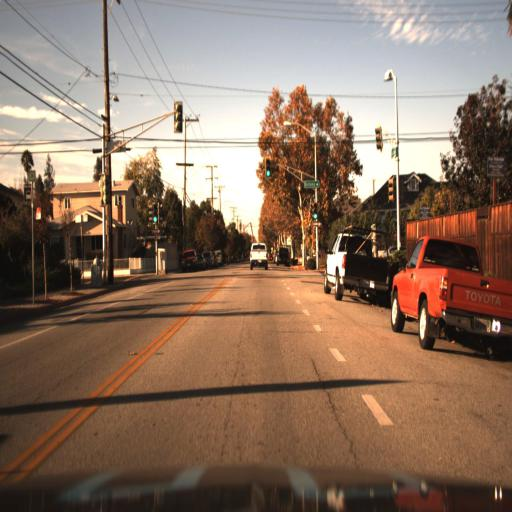car: (390, 236, 512, 353), (315, 221, 390, 308), (247, 230, 271, 276), (179, 249, 199, 275), (214, 246, 225, 271), (199, 248, 209, 271), (206, 247, 216, 269)
trafficLight-Green: (263, 161, 274, 183), (310, 201, 319, 225), (310, 210, 319, 225), (150, 212, 157, 231)
